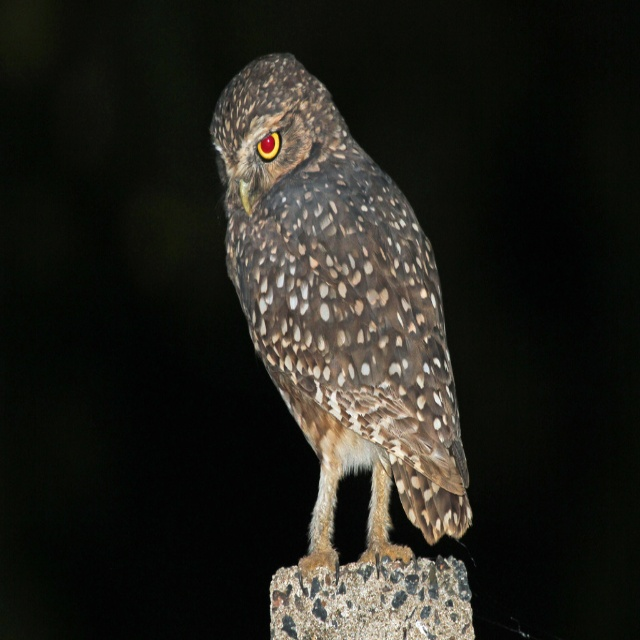Owl: (210, 50, 476, 573)
